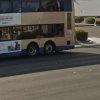Bus: (3, 8, 81, 64)
